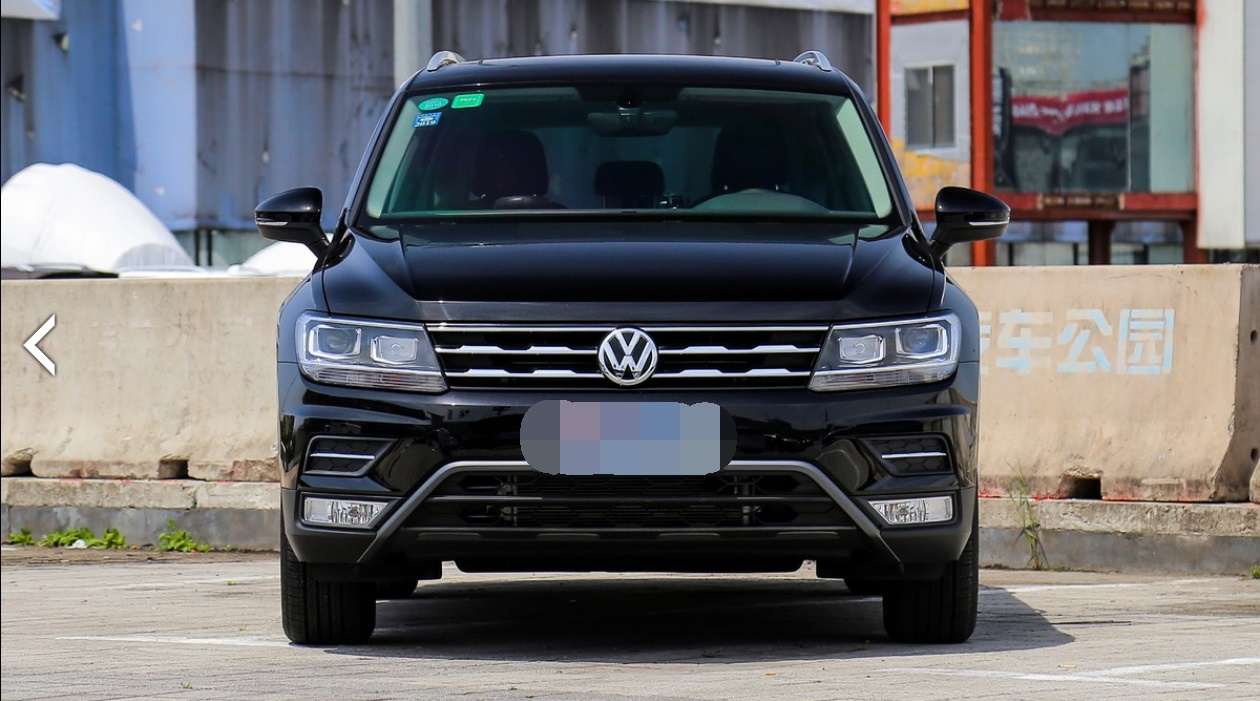SUV: (256, 43, 994, 651)
